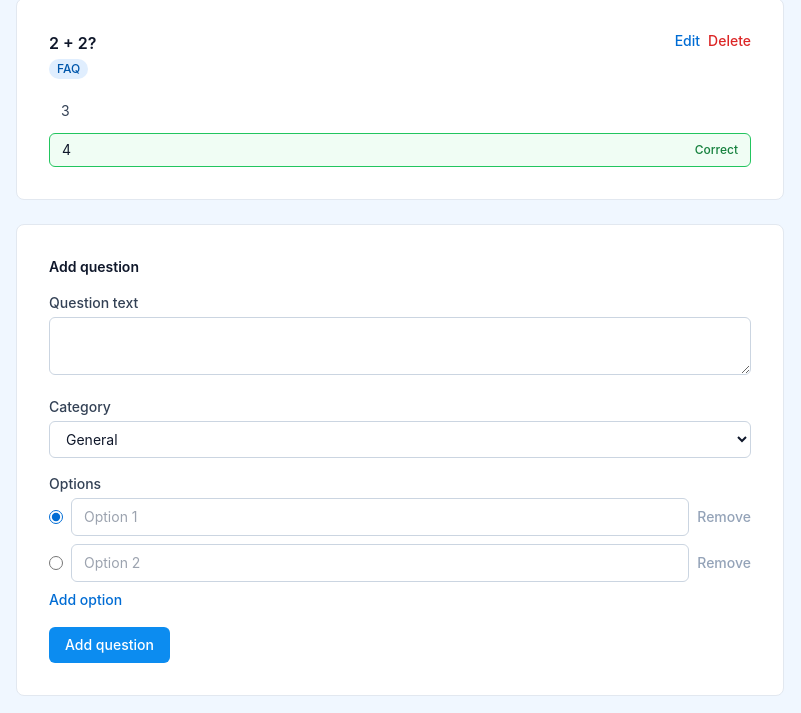
AdminQuestions › should_send_selected_category_when_adding
(page scrolled)
Select "FAQ" in the dropdown labelled "Category": (400, 440) x1=49 y1=421 x2=751 y2=458
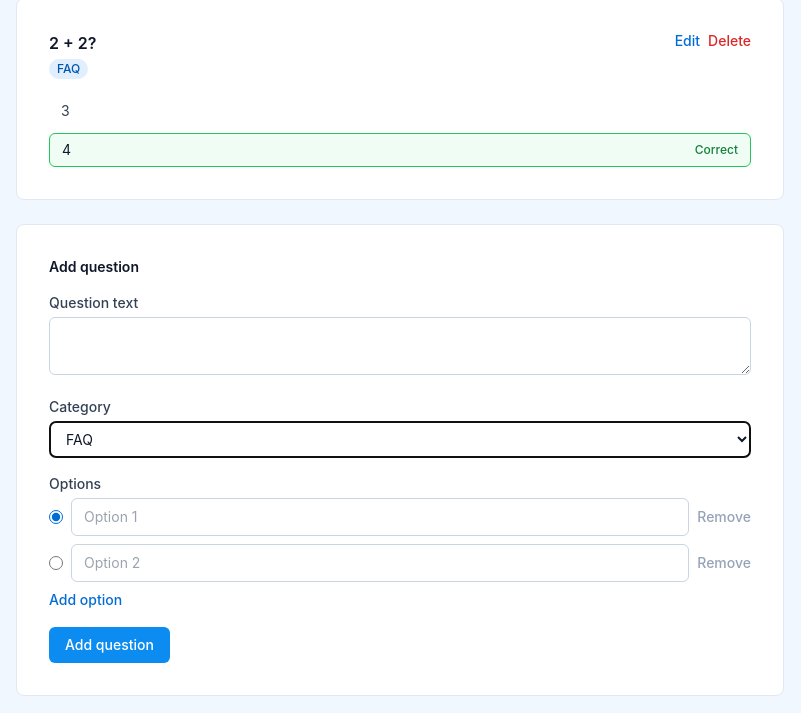
In the text box labelled "Question text": (400, 346) x1=49 y1=317 x2=751 y2=375, type "Vacation days?"
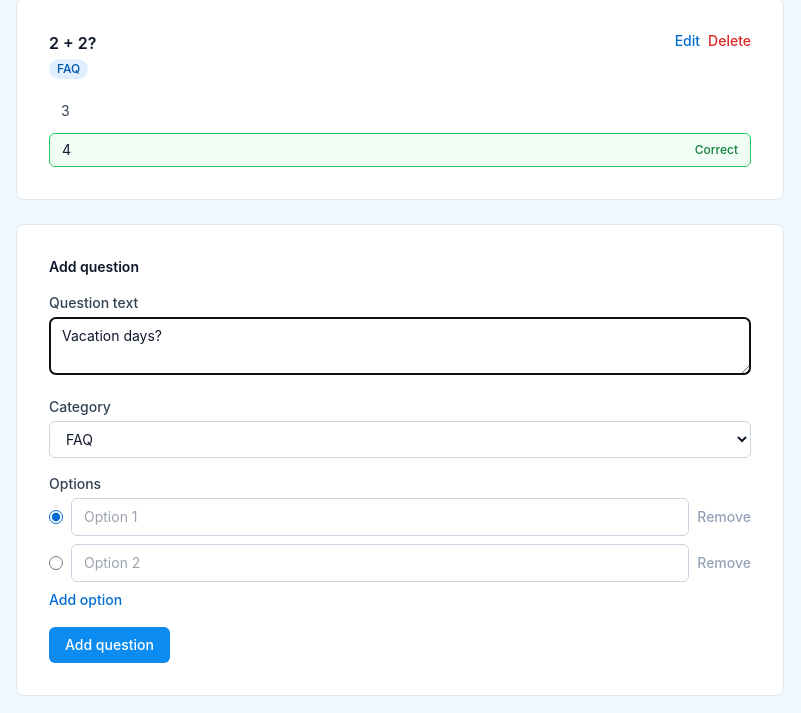
In the field with placeholder "Option 1": (380, 517) x1=71 y1=498 x2=689 y2=536, type "15"
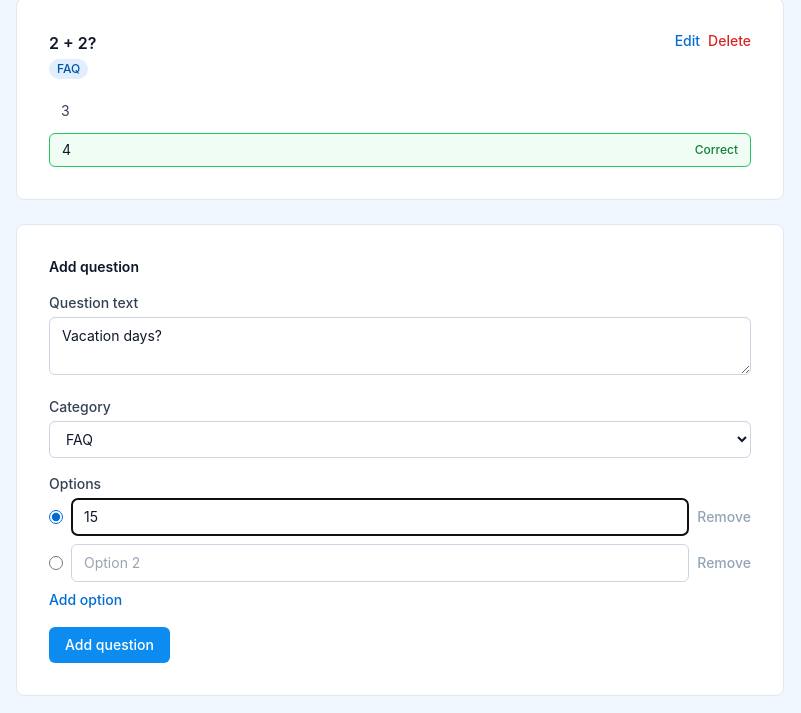
In the field with placeholder "Option 2": (380, 563) x1=71 y1=544 x2=689 y2=582, type "20"
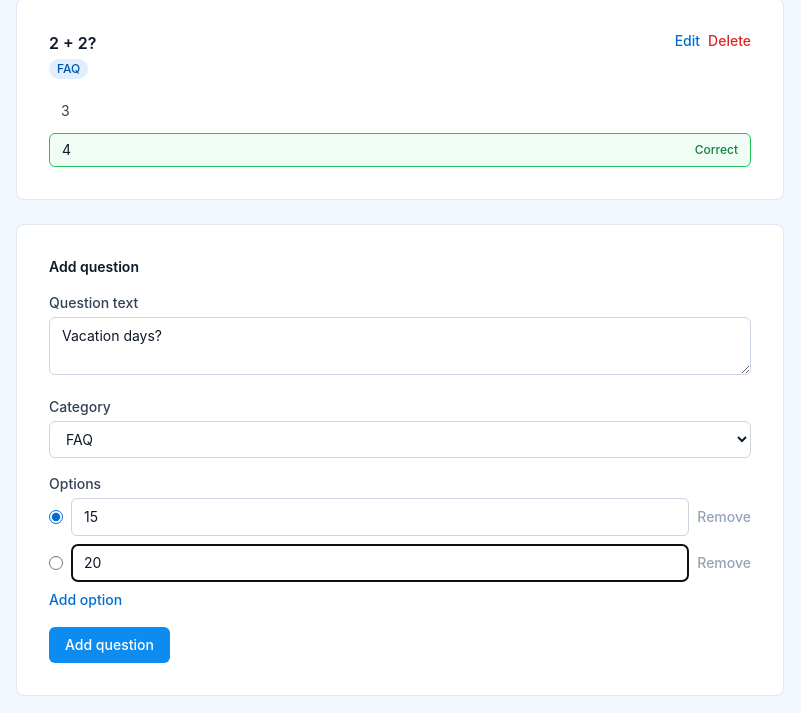
Click the button "Add question": (109, 645) x1=49 y1=627 x2=170 y2=663
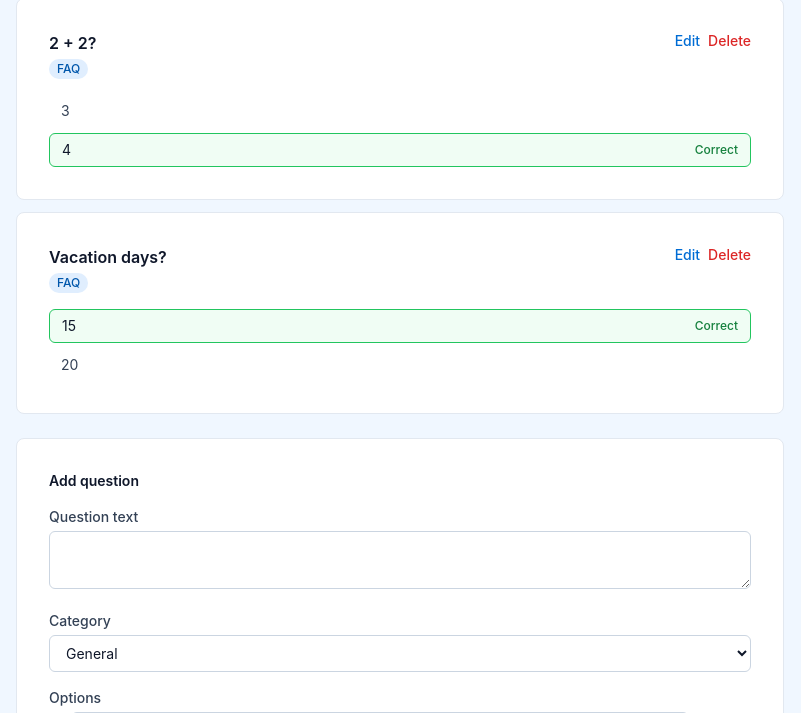
Now the text "Vacation days?" is shown, box x1=49 y1=245 x2=167 y2=269
